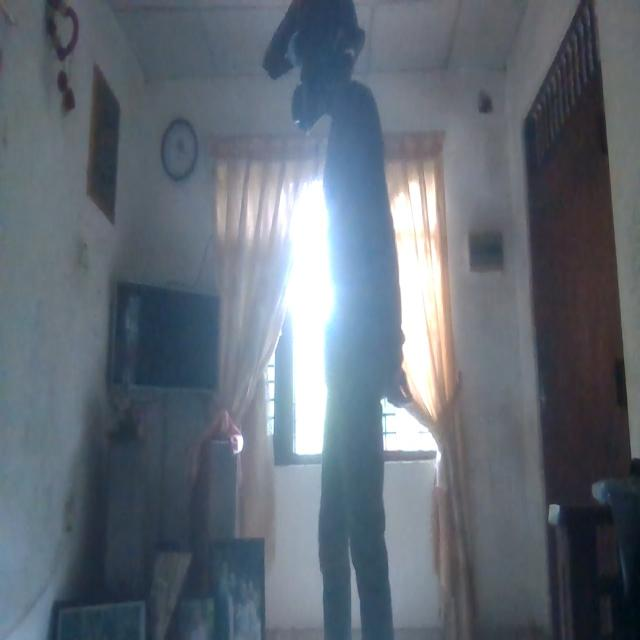Helmet_Wearer: (257, 0, 368, 120)
Person: (274, 1, 414, 640)
